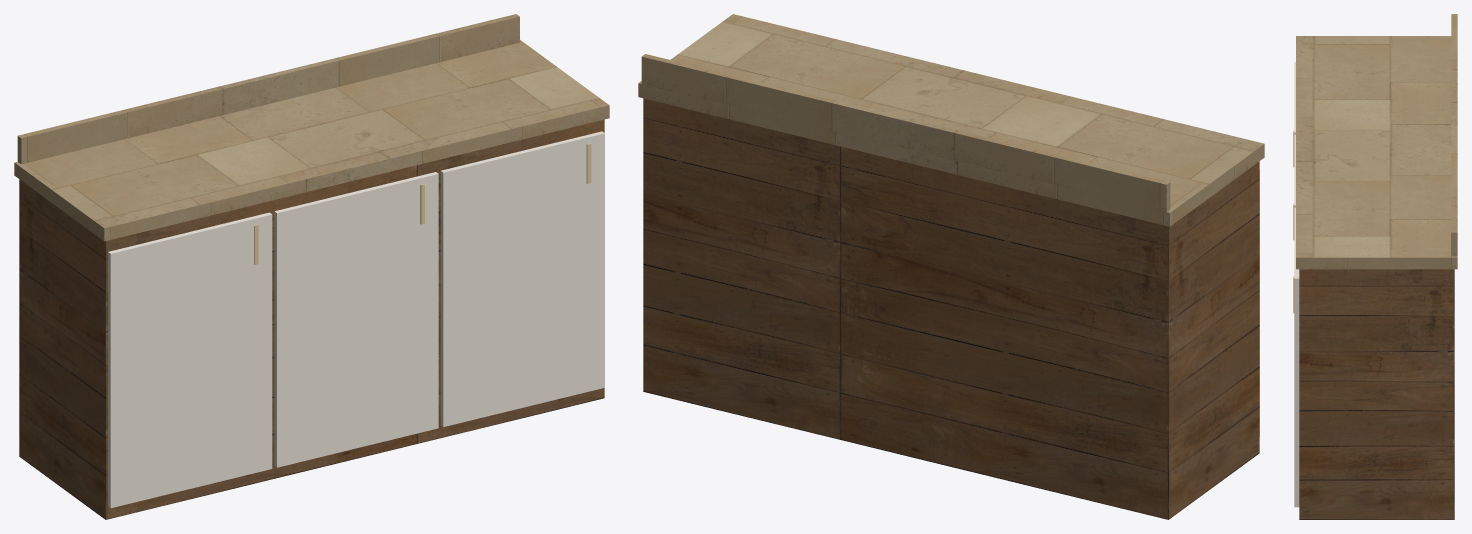
Rendered from bancada_160.glb.
The picture shows the model from 3 angles, left to right: view 1: azimuth 30°, elevation 25°; view 2: azimuth 150°, elevation 25°; view 3: azimuth 270°, elevation 25°; orthographic projection. The views are drawn at different scales.
Visible parts, largest first — view 1: bancada_160; view 2: bancada_160; view 3: bancada_160.
Part boxes in pixels (bbox=[...]): bancada_160: bbox=[14, 14, 609, 519]; bancada_160: bbox=[638, 14, 1264, 519]; bancada_160: bbox=[1293, 14, 1457, 519].
Size of the model in its own units: 1.62 by 0.98 by 0.509.
Materials: 4 (2 with a texture image).
